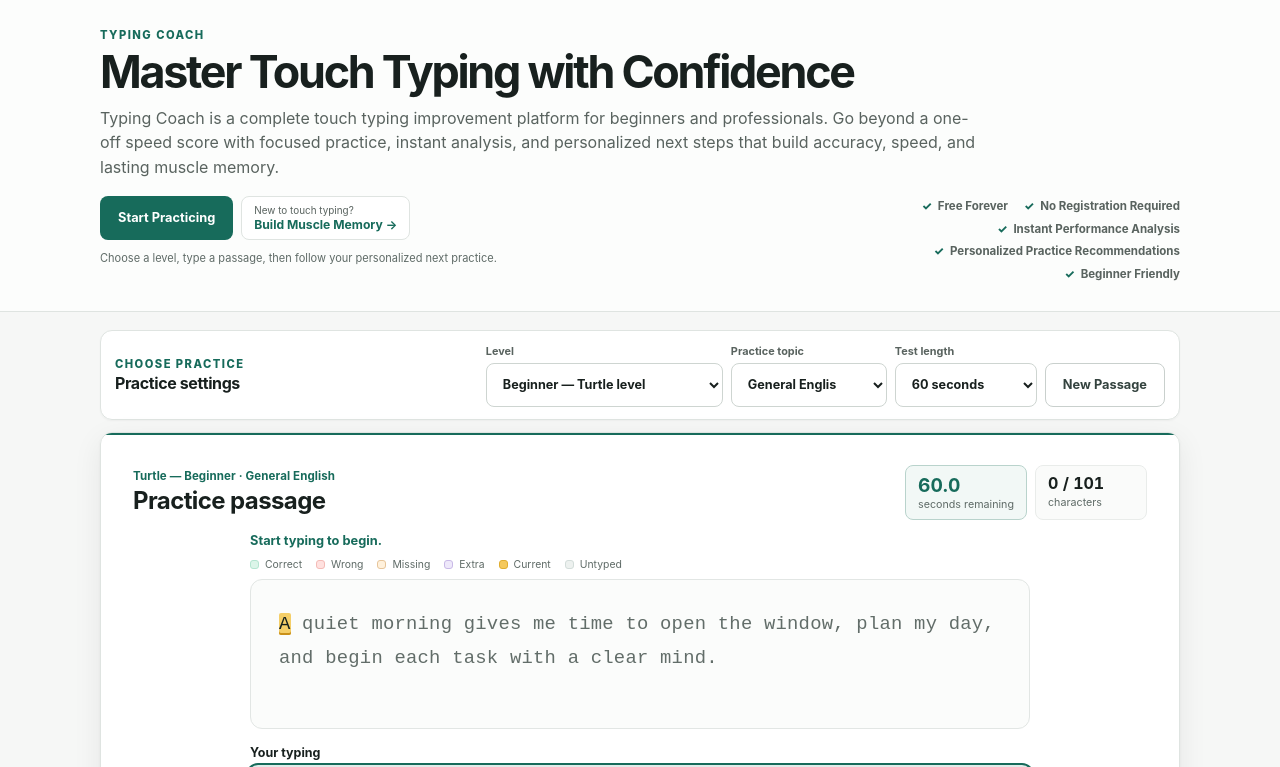
it: Typing Coach application › configures the 30-second timed mode
Select "30 seconds" in the dropdown labelled "Test length" at (966, 385), box [895,363,1037,407]
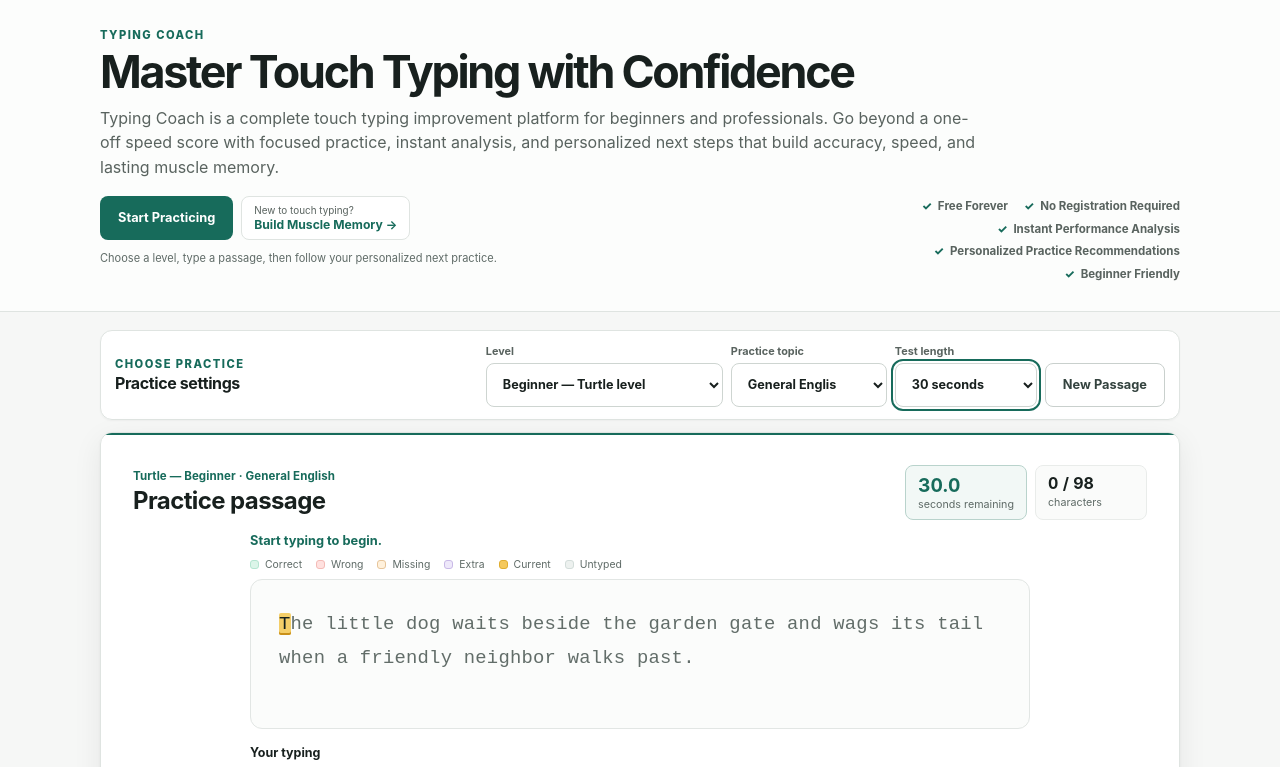
Expected: the text "seconds remaining" is shown, [918,498,1014,511]
Expected: the text "30.0" is shown, [918,473,960,497]
